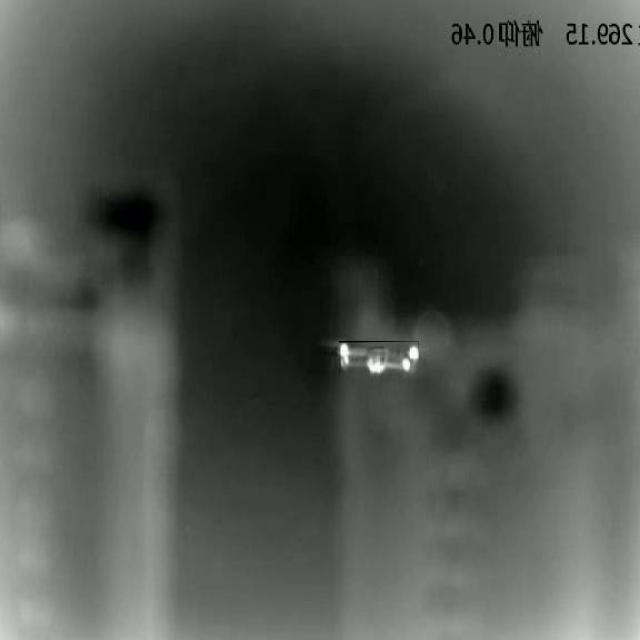drone: (339, 342, 418, 374)
